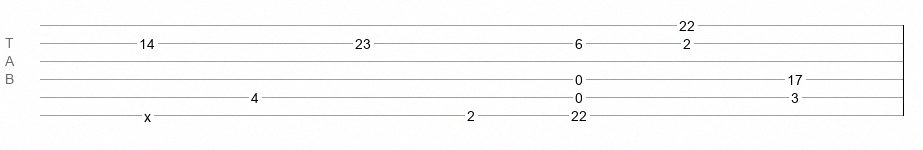0: (575, 72, 583, 82), (575, 90, 583, 100)
14: (139, 36, 155, 46)
17: (787, 72, 803, 82)
2: (467, 108, 475, 118), (683, 36, 691, 46)
22: (571, 108, 587, 118), (679, 18, 695, 28)
23: (355, 36, 371, 46)
3: (791, 90, 799, 100)
4: (251, 90, 259, 100)
6: (575, 36, 583, 46)
x: (144, 109, 151, 117)
